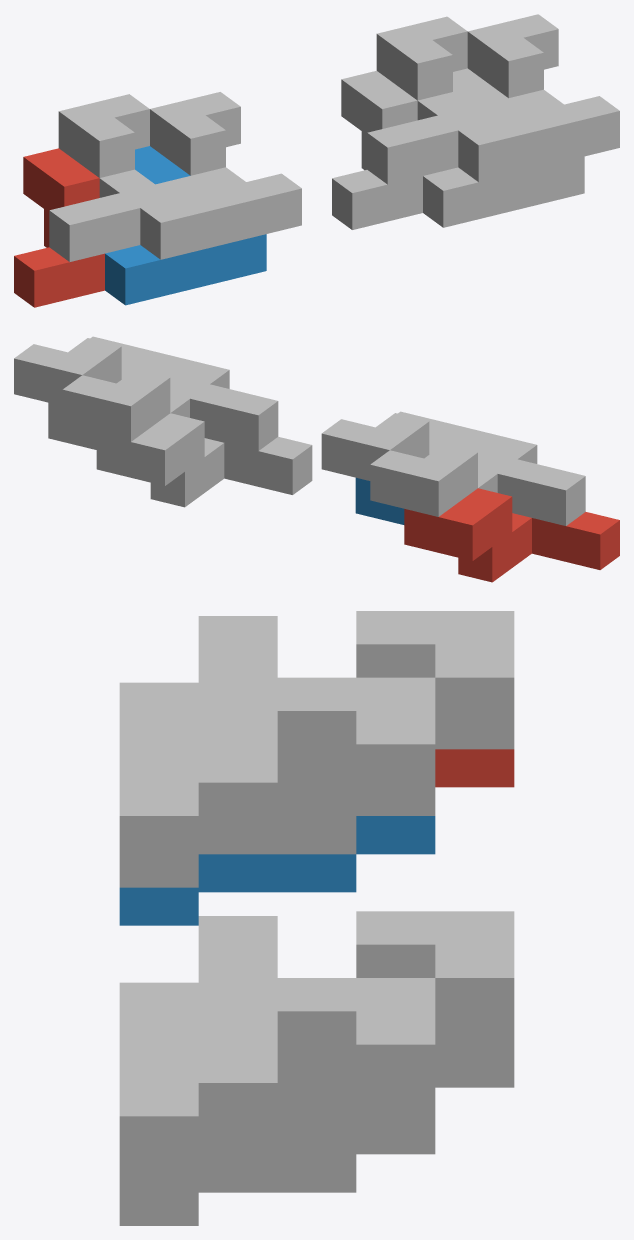
The model's file is tiling.obj.
3 views of the same model, one above another, from view 1: azimuth 30°, elevation 25°; view 2: azimuth 150°, elevation 25°; view 3: azimuth 270°, elevation 25° (orthographic). The views are drawn at different scales.
Parts seen in each view (by area): view 1: copy_1_domain_8, copy_1_domain_4, copy_1_domain_7, copy_1_domain_3, copy_1_domain_2, copy_1_domain_6, copy_1_domain_5, copy_1_domain_1; view 2: copy_1_domain_5, copy_1_domain_1, copy_1_domain_7, copy_1_domain_3, copy_1_domain_4, copy_1_domain_8, copy_1_domain_2, copy_1_domain_6; view 3: copy_1_domain_4, copy_1_domain_8, copy_1_domain_7, copy_1_domain_3, copy_1_domain_6, copy_1_domain_2, copy_1_domain_1, copy_1_domain_5.
Part boxes in pixels (x1,y1,x2,y2): copy_1_domain_8: (458, 14, 619, 182); copy_1_domain_4: (140, 92, 301, 259); copy_1_domain_7: (367, 16, 528, 184); copy_1_domain_3: (49, 94, 210, 261); copy_1_domain_2: (105, 146, 266, 305); copy_1_domain_6: (423, 68, 584, 227); copy_1_domain_5: (332, 70, 422, 229); copy_1_domain_1: (14, 148, 104, 307); copy_1_domain_5: (96, 413, 312, 507); copy_1_domain_1: (404, 488, 619, 582); copy_1_domain_7: (62, 367, 278, 450); copy_1_domain_3: (370, 442, 585, 525); copy_1_domain_4: (321, 411, 537, 480); copy_1_domain_8: (14, 336, 229, 405); copy_1_domain_2: (355, 477, 404, 524); copy_1_domain_6: (48, 402, 96, 449); copy_1_domain_4: (119, 677, 435, 887); copy_1_domain_8: (119, 978, 435, 1187); copy_1_domain_7: (198, 911, 514, 1049); copy_1_domain_3: (198, 611, 514, 749); copy_1_domain_6: (119, 1116, 435, 1225); copy_1_domain_2: (119, 816, 435, 925); copy_1_domain_1: (435, 749, 514, 787); copy_1_domain_5: (435, 1049, 514, 1087).
Size of the model in its own units: 16 by 3 by 5.
